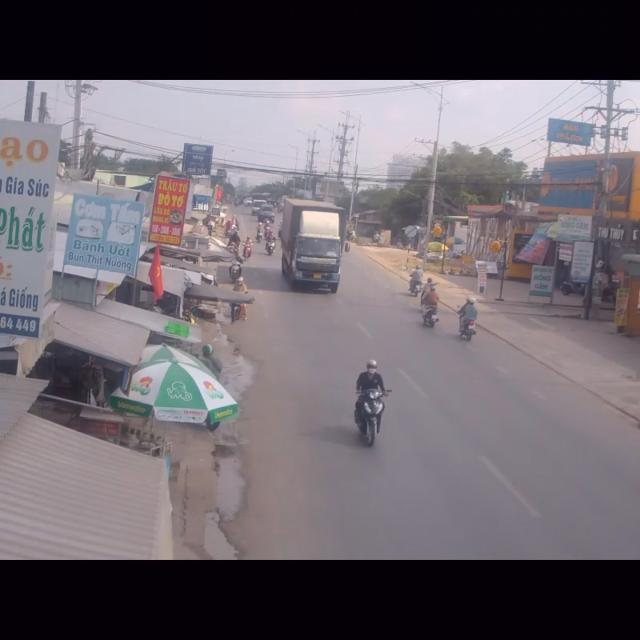motorbike: (351, 356, 388, 452), (458, 294, 479, 344), (420, 282, 440, 329), (410, 262, 426, 299)
truck: (279, 198, 348, 292)
